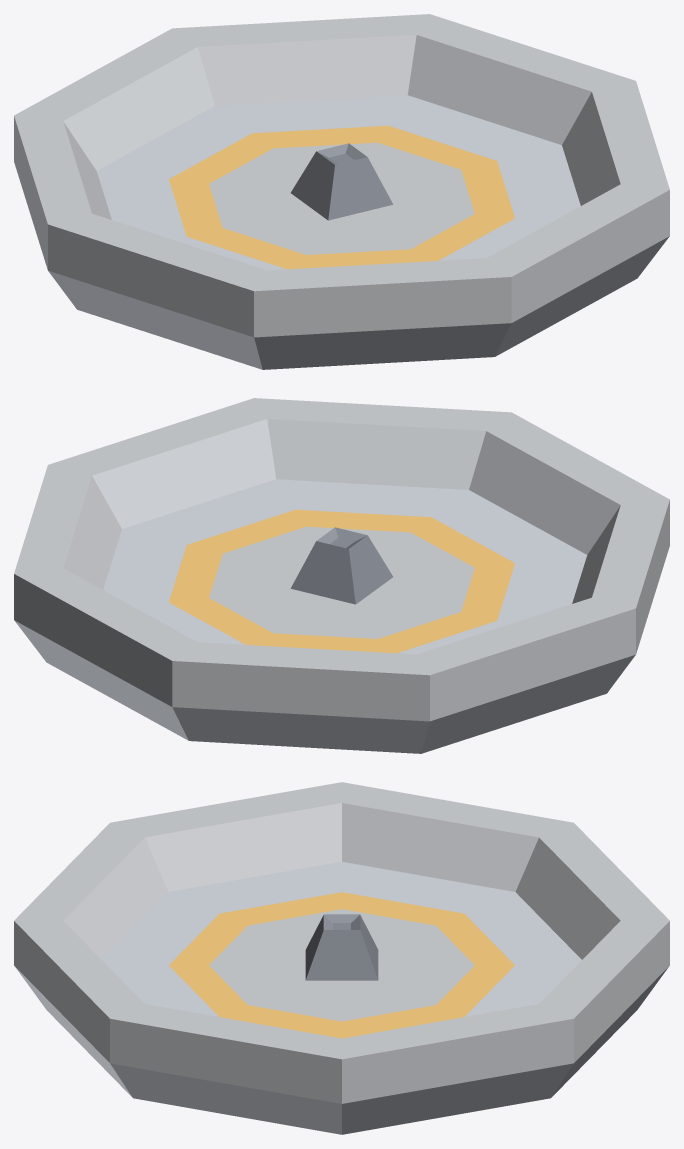
File: Wheel.fbx
The picture shows the model from 3 angles, top to bottom: view 1: azimuth 30°, elevation 25°; view 2: azimuth 150°, elevation 25°; view 3: azimuth 270°, elevation 25°; orthographic projection. The views are drawn at different scales.
Visible parts, largest first — view 1: satelliteDish; view 2: satelliteDish; view 3: satelliteDish.
Part boxes in pixels (x1,y1,x2,y2): satelliteDish: (14,14,669,369); satelliteDish: (14,398,669,753); satelliteDish: (14,782,669,1134).
Bounding box in the file's own units: 12.39 × 1.86 × 12.39.
